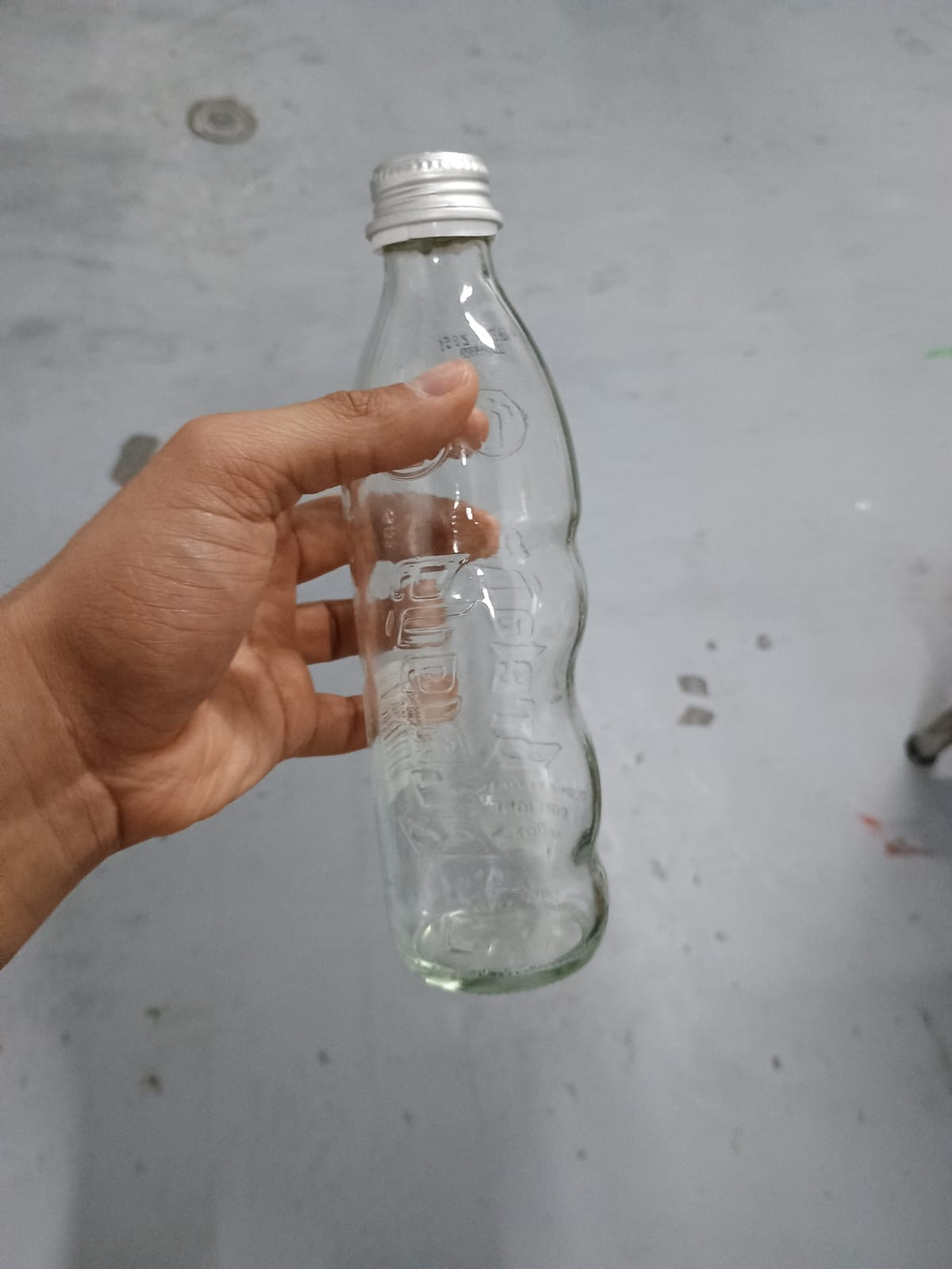Metal: (370, 143, 505, 234)
Vidrio: (342, 241, 611, 993)
